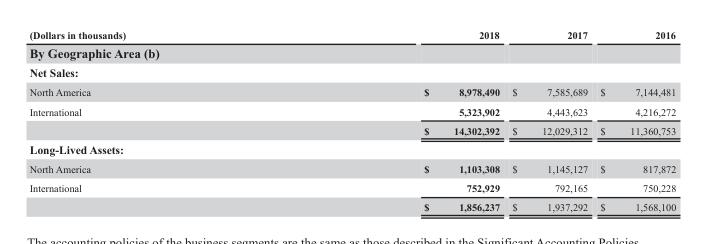table: (28, 28, 675, 212)
table column: (28, 28, 274, 212), (274, 28, 505, 212), (505, 28, 593, 212), (593, 28, 675, 212)
table column header: (28, 28, 675, 42)
table projected row header: (28, 42, 675, 62), (28, 62, 675, 82), (28, 139, 675, 159)
table row: (28, 42, 675, 62), (28, 62, 675, 82), (28, 139, 675, 159), (28, 82, 675, 101), (28, 101, 675, 120), (28, 120, 675, 139), (28, 159, 675, 178), (28, 178, 675, 197), (28, 197, 675, 212), (28, 28, 675, 42)
